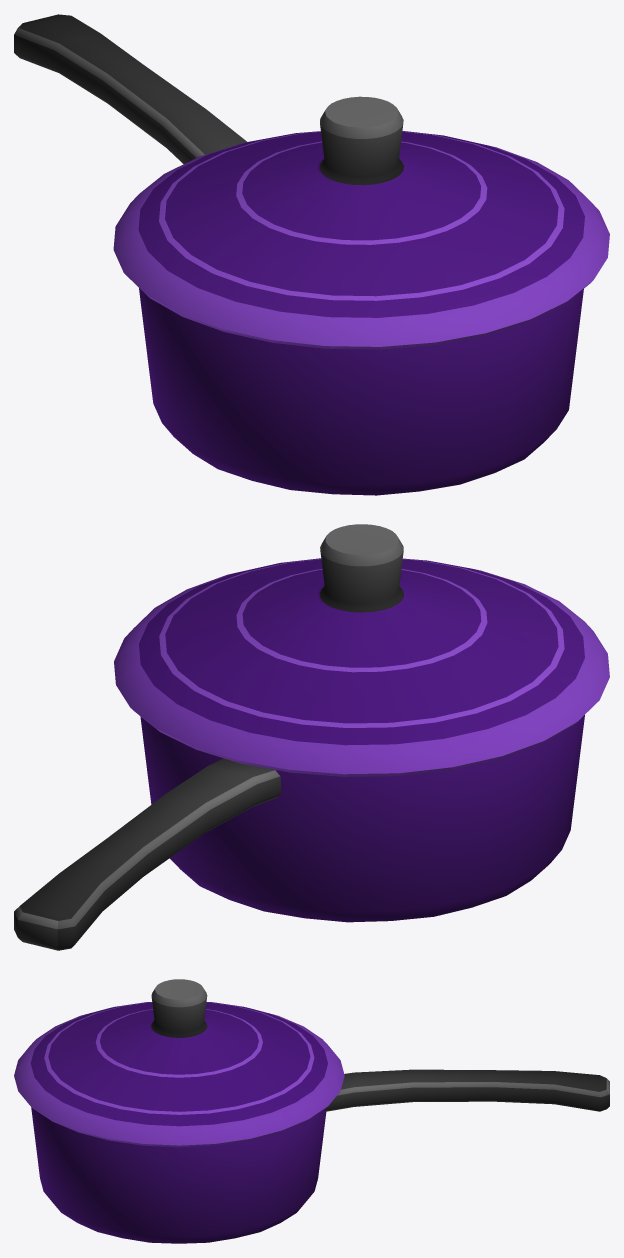
Rendered from Pan_2.fbx.
3 views of the same model, one above another, from view 1: azimuth 30°, elevation 25°; view 2: azimuth 150°, elevation 25°; view 3: azimuth 270°, elevation 25° (orthographic). The views are drawn at different scales.
Parts seen in each view (by area): view 1: Pan_2 Top, Pan_2; view 2: Pan_2 Top, Pan_2; view 3: Pan_2 Top, Pan_2.
Boxes of the visible parts, box(x1,y1,x2,y2) form: Pan_2 Top: box(113, 96, 609, 349); Pan_2: box(14, 14, 583, 495); Pan_2 Top: box(114, 524, 609, 776); Pan_2: box(14, 715, 584, 950); Pan_2 Top: box(14, 979, 344, 1147); Pan_2: box(31, 1069, 609, 1243).
Size of the model in its own units: 0.2526 by 0.1681 by 0.4551.
